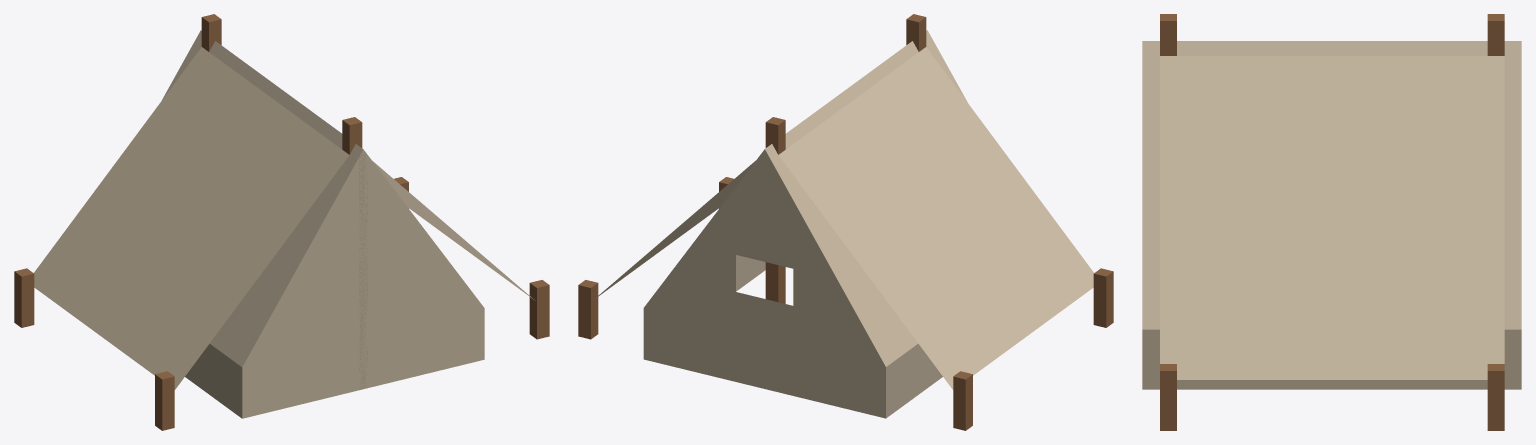
The model's file is yurt_felt_detailedClosed.obj.
3 views of the same model, side by side, from view 1: azimuth 30°, elevation 25°; view 2: azimuth 150°, elevation 25°; view 3: azimuth 270°, elevation 25° (orthographic). The views are drawn at different scales.
Parts seen in each view (by area): view 1: tent_detailedClosed; view 2: tent_detailedClosed; view 3: tent_detailedClosed.
Part boxes in pixels (x1,y1,x2,y2): tent_detailedClosed: (14,14,549,430); tent_detailedClosed: (578,14,1113,430); tent_detailedClosed: (1142,14,1521,430).
Bounding box in the file's own units: 0.8749 × 0.5611 × 0.6364.
